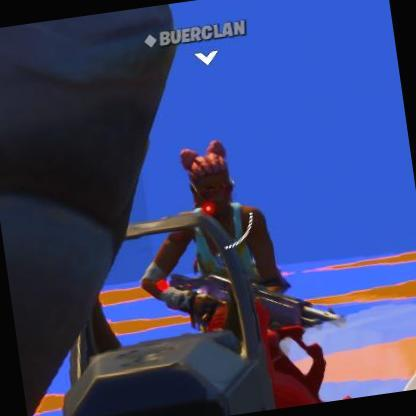person: (184, 140, 324, 396)
